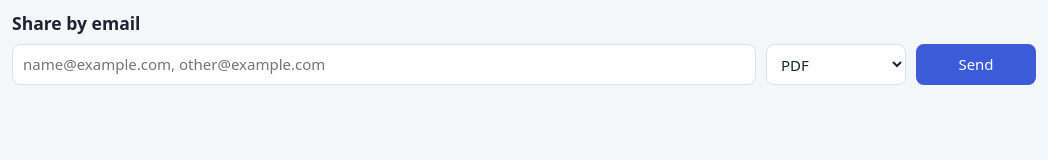
Test case: ShareMinutes › rejects a bad address before sending
Type "Aasha35gmail.com" into the field named "Email addresses". click: [384, 65]
box: x1=12 y1=44 x2=756 y2=85
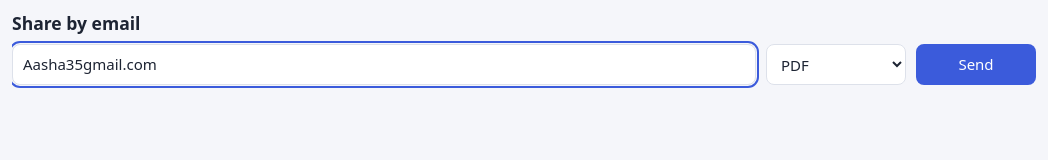
Click the button "Send". click: [976, 65]
box: x1=916 y1=44 x2=1036 y2=85
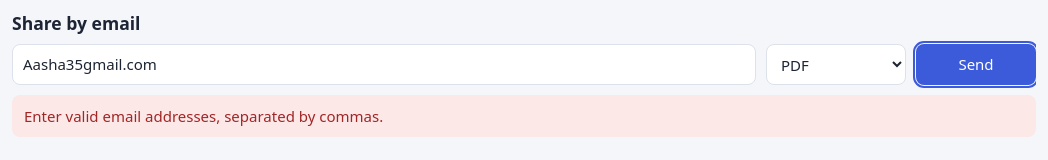
expect the message shows "valid email addresses": met, box x1=24 y1=106 x2=383 y2=126
